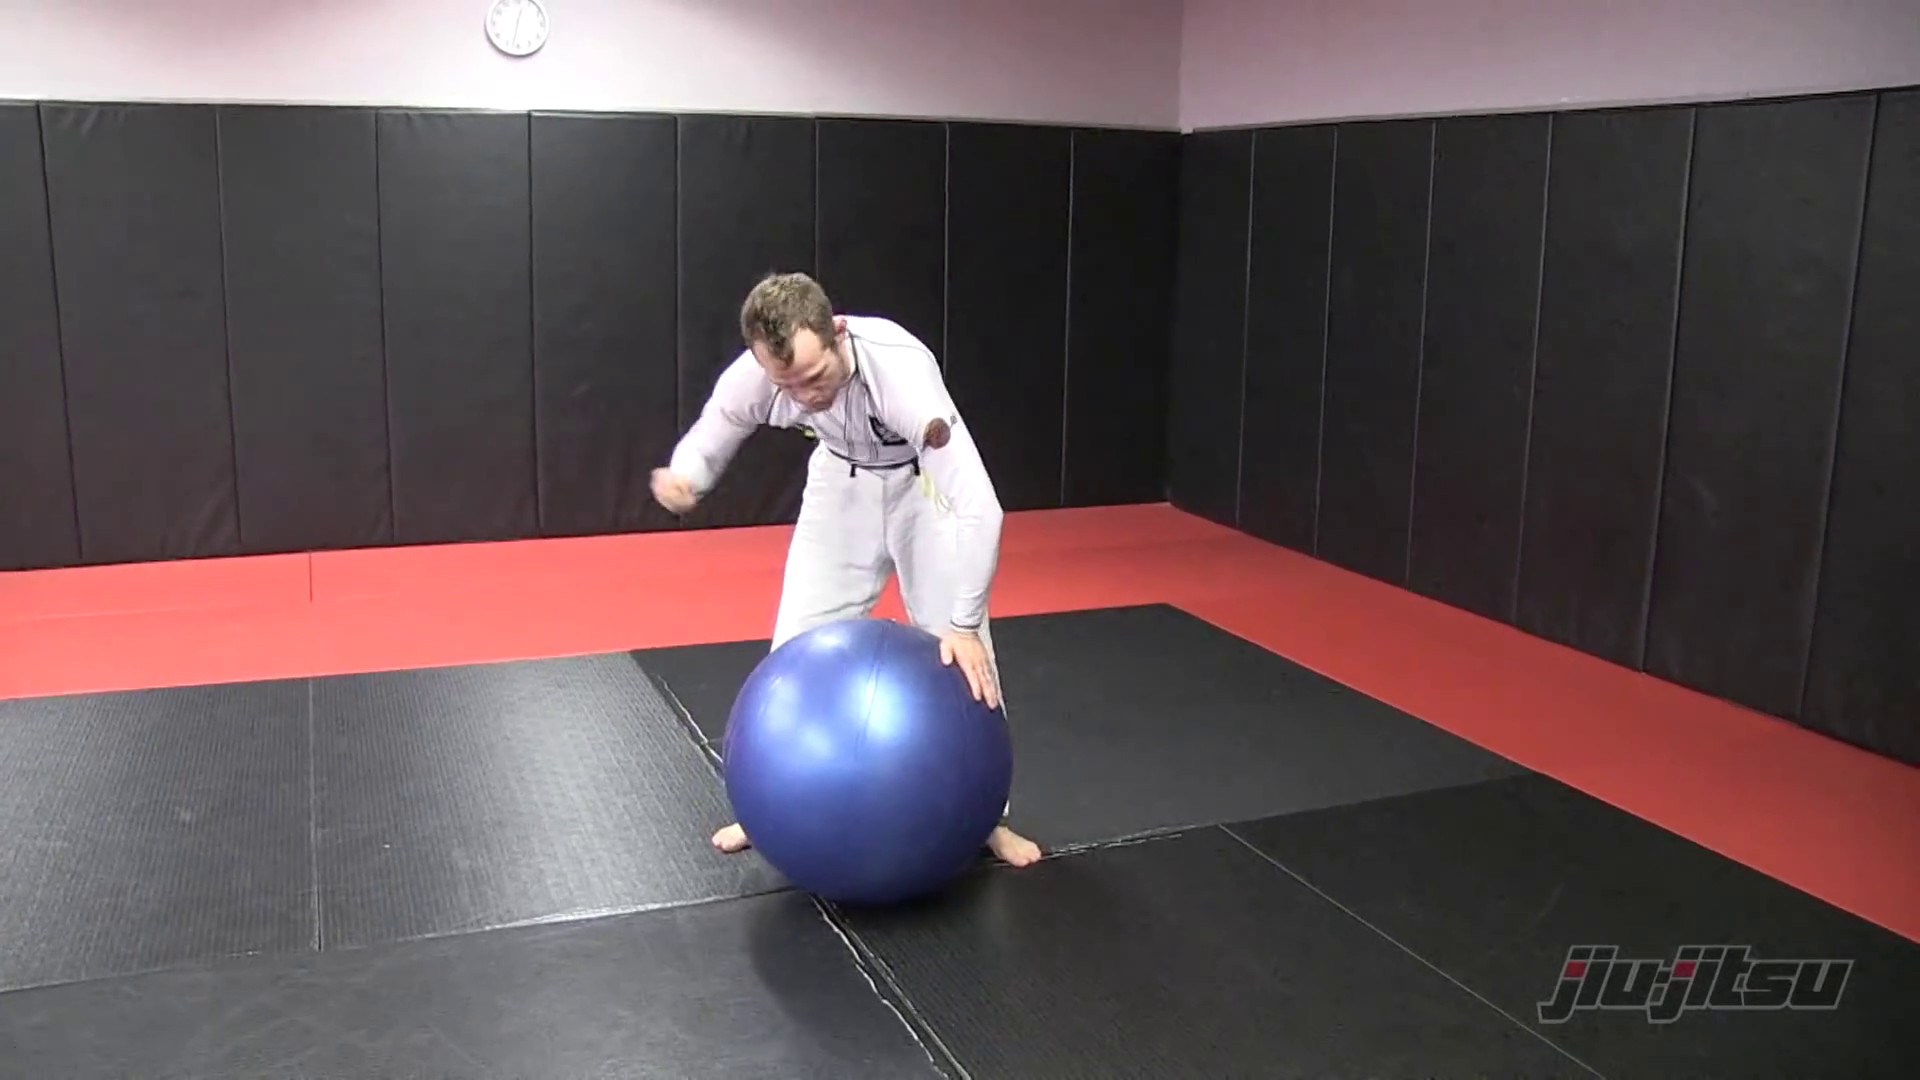yogaball: (719, 618, 1022, 922)
